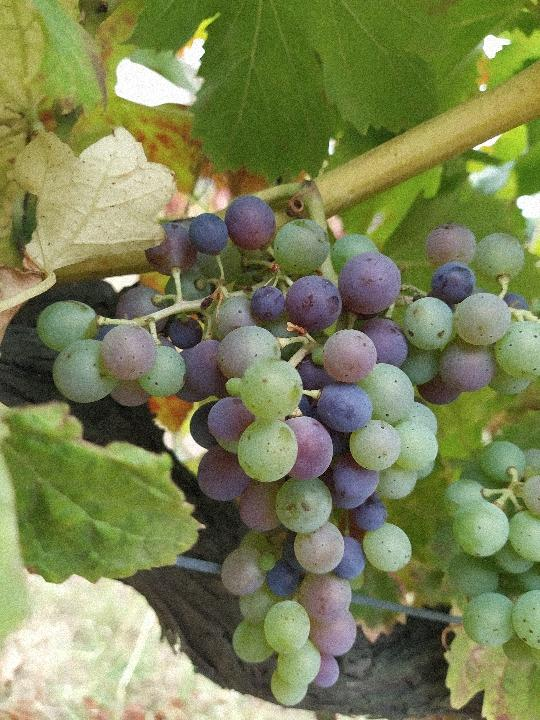grape: (33, 192, 540, 707)
